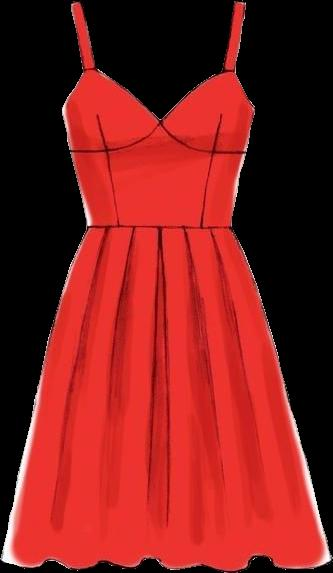Bodice: (62, 2, 254, 227)
Hemline: (0, 551, 332, 572)
Neckline: (76, 1, 239, 123), (67, 119, 246, 157)
Skirt: (1, 227, 330, 571)
Waistline: (84, 220, 232, 232)
